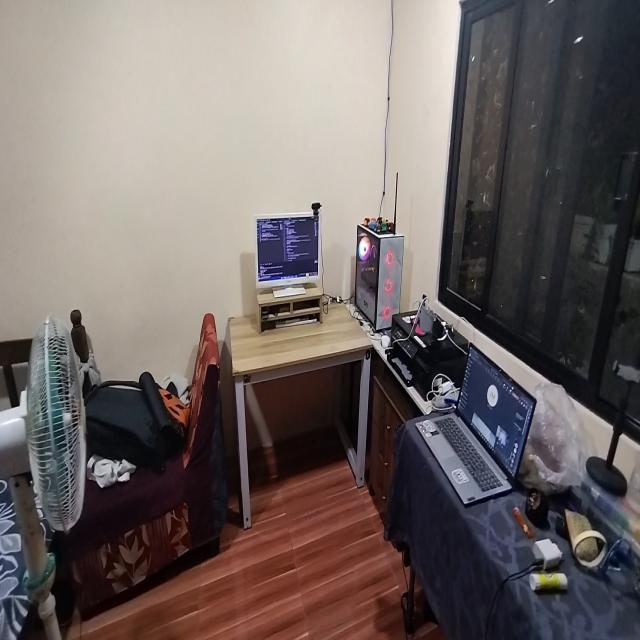table: (226, 301, 381, 529)
